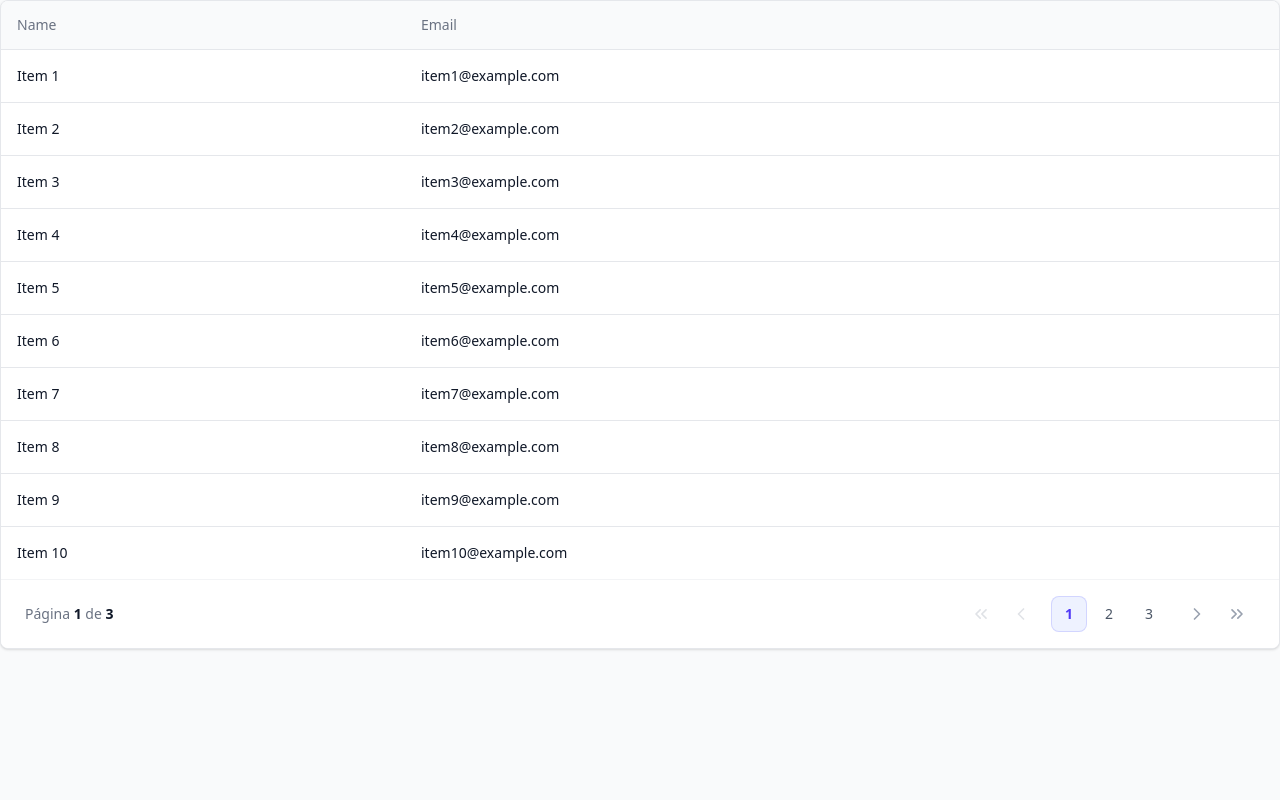
Test: DataTableWithPagination › navigates to the last page
Click the button titled "Última página". click: (1237, 614)
box: [1219, 596, 1255, 632]
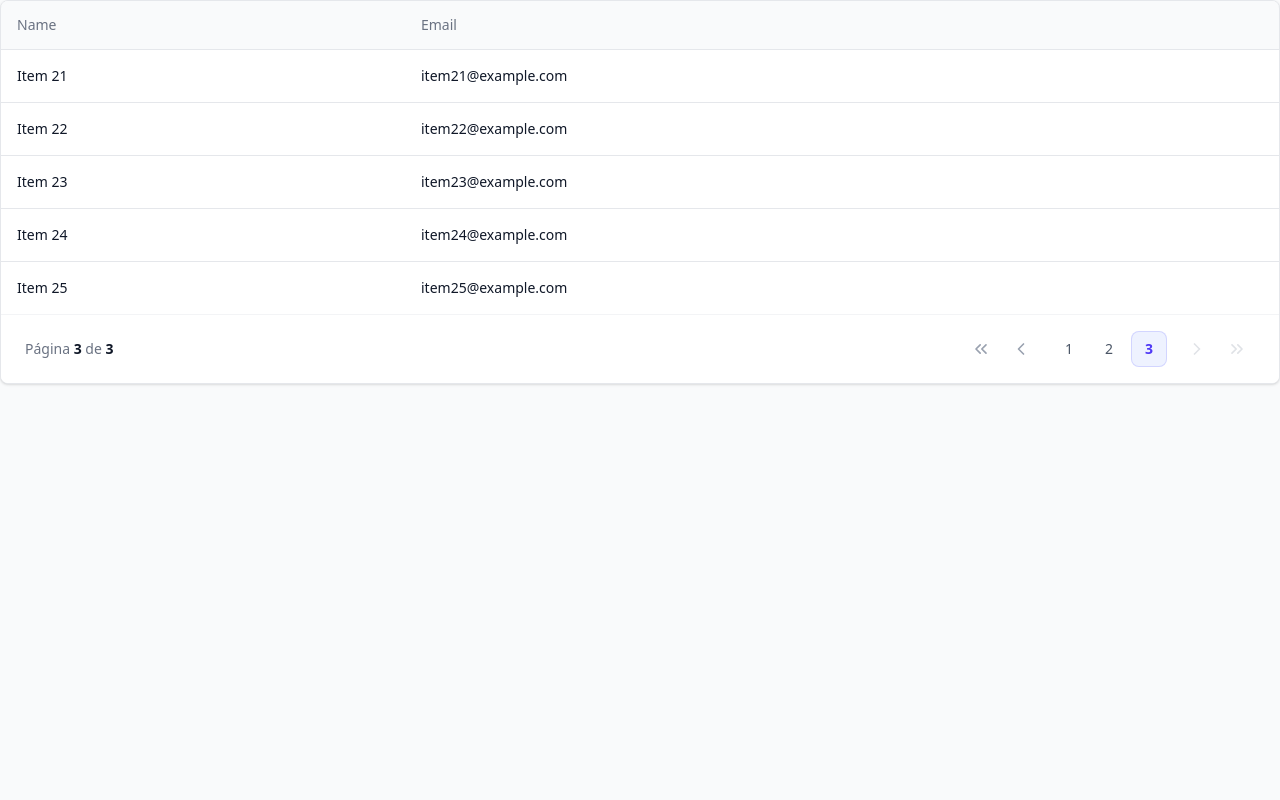
Expected: the text "Item 21" is shown, [1, 49, 405, 102]
Expected: the text "Item 25" is shown, [1, 261, 405, 314]
